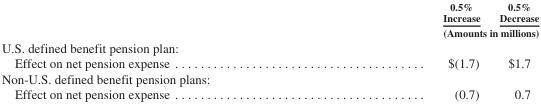table: (0, 0, 538, 100)
table column: (0, 0, 305, 100), (305, 0, 489, 100), (489, 0, 538, 100)
table column header: (0, 0, 538, 39)
table projected row header: (0, 39, 538, 54), (0, 70, 538, 85)
table row: (0, 0, 538, 24), (0, 54, 538, 70), (0, 24, 538, 39), (0, 39, 538, 54), (0, 70, 538, 85), (0, 85, 538, 100)
table spanning cell: (305, 24, 538, 39)
